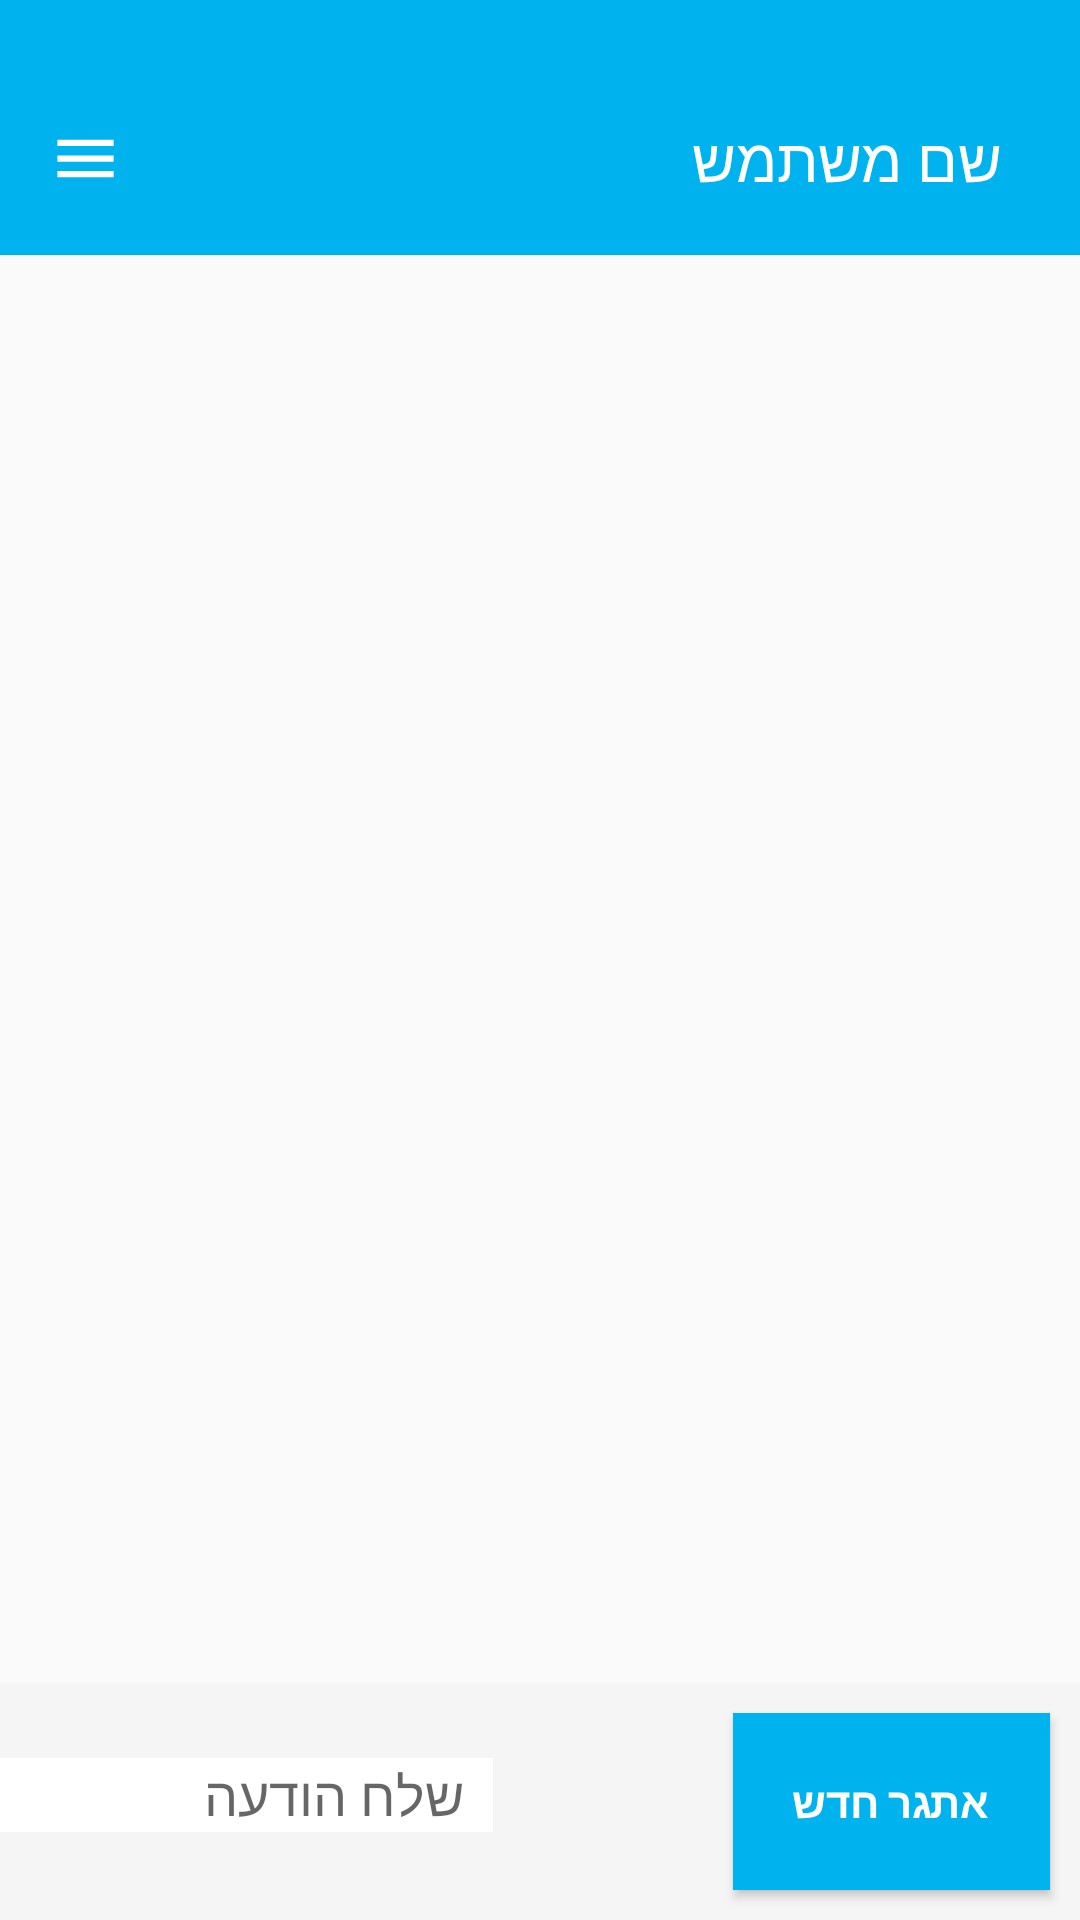

Where to tap for icons on this 1080x1920 app screen, as (x=x, y=y):
menu: (x=85, y=158)
